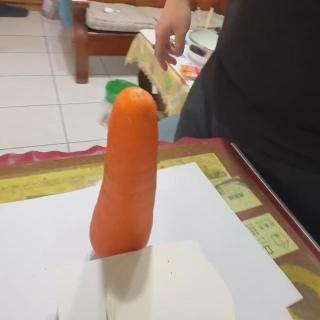carrot: (87, 86, 159, 260)
